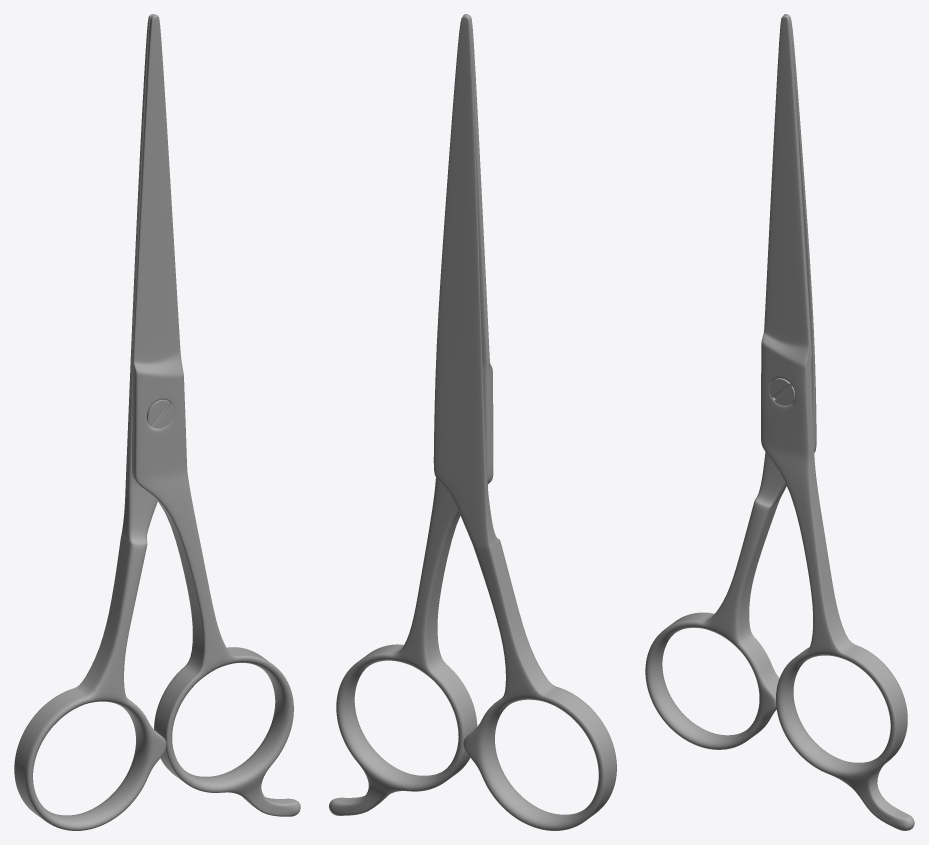
Rendered from gear_scissors.gltf.
3 views of the same model, side by side, from view 1: azimuth 30°, elevation 25°; view 2: azimuth 150°, elevation 25°; view 3: azimuth 330°, elevation 25° (orthographic). The views are drawn at different scales.
Parts seen in each view (by area): view 1: scissors; view 2: scissors; view 3: scissors.
Part boxes in pixels (left/top/right/bottom): scissors: left=14, top=14, right=300, bottom=830; scissors: left=329, top=14, right=616, bottom=830; scissors: left=645, top=14, right=914, bottom=830.
Bounding box in the file's own units: 0.1389 × 0.394 × 0.0153.
1 material, 1 textured.
